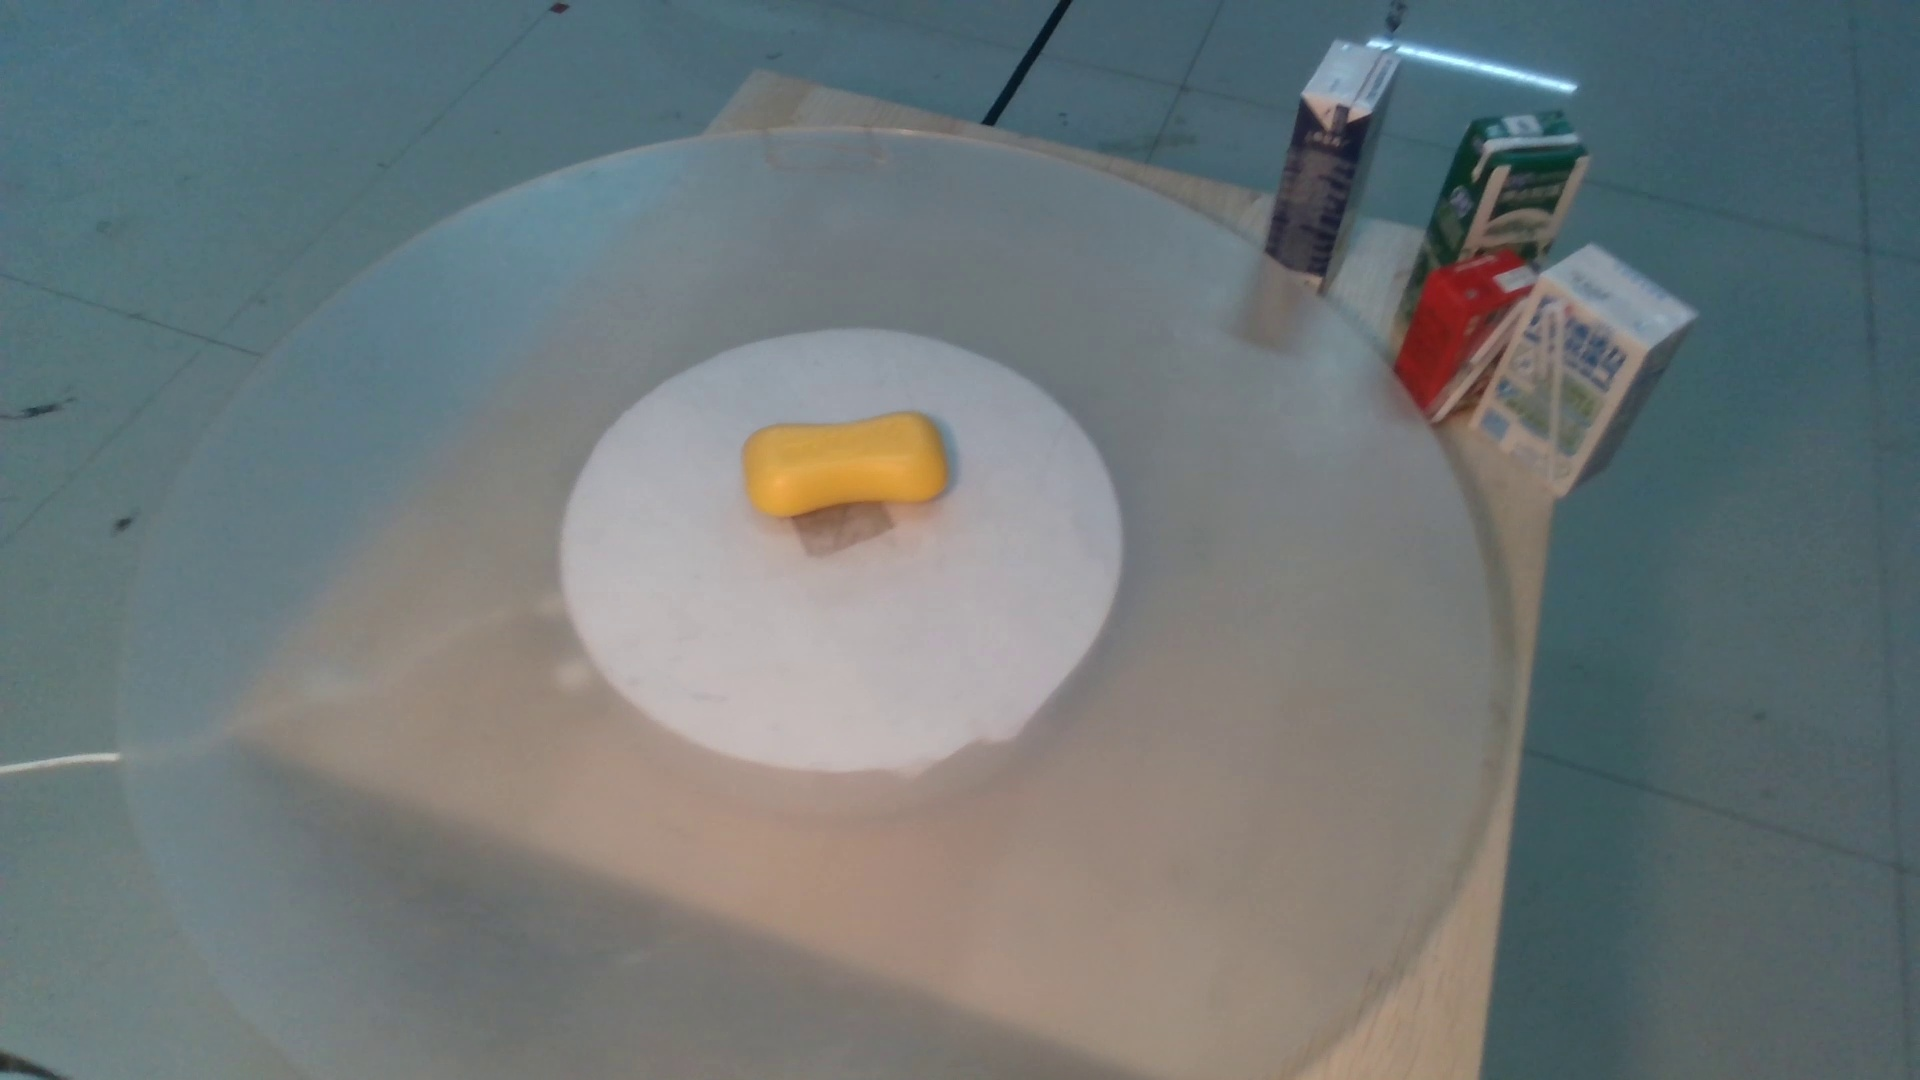CA003_1: (732, 396, 968, 541)
